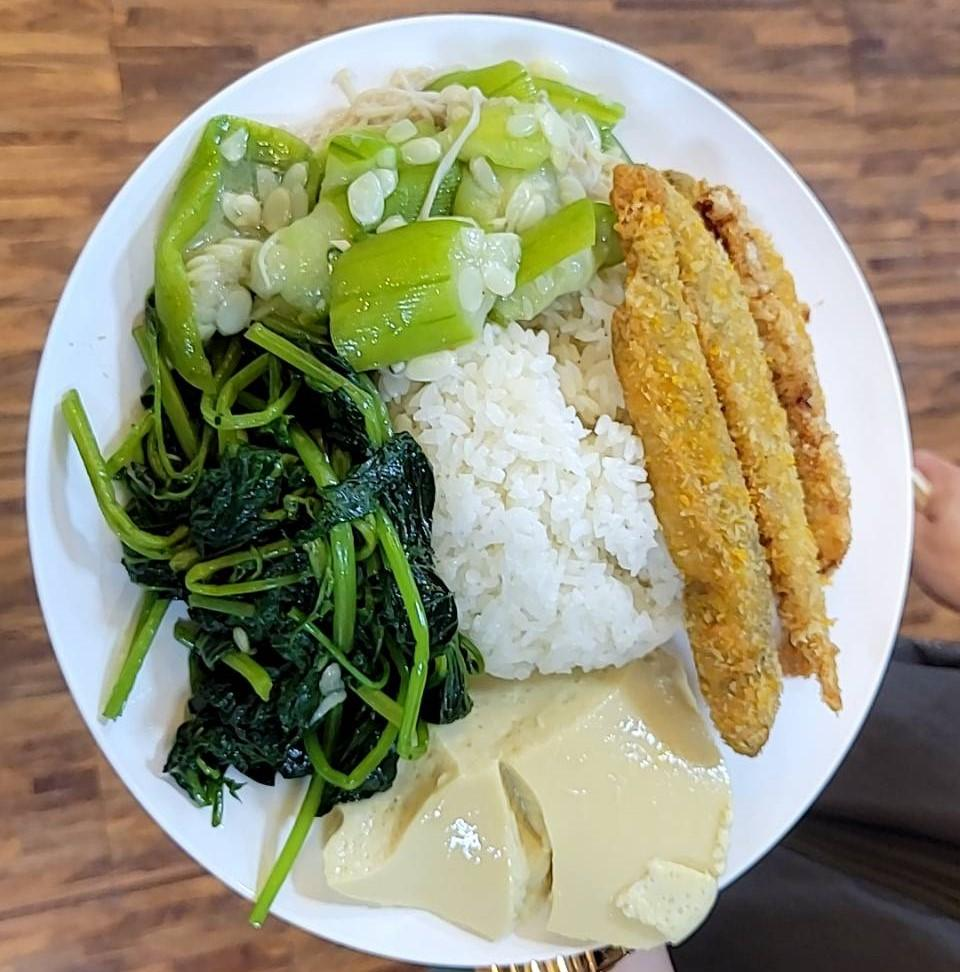big fried chicken leg: (18, 16, 929, 957)
big herbal chicken leg: (401, 330, 676, 675)
braised fish fillet: (76, 336, 462, 803), (148, 60, 612, 362), (323, 666, 732, 952)
braised pork: (604, 148, 867, 760)
